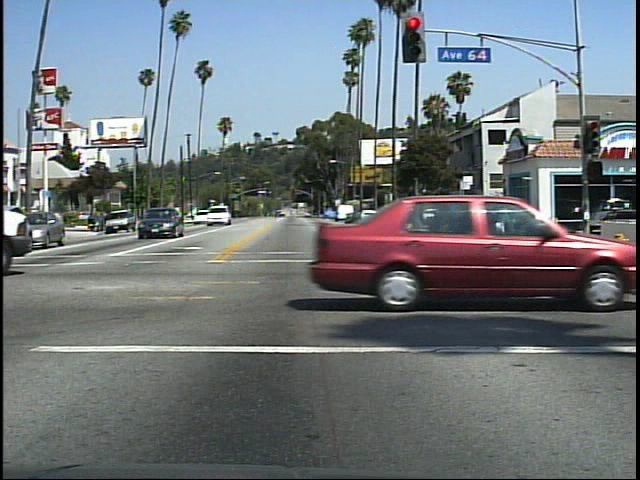person: (492, 195, 518, 244)
